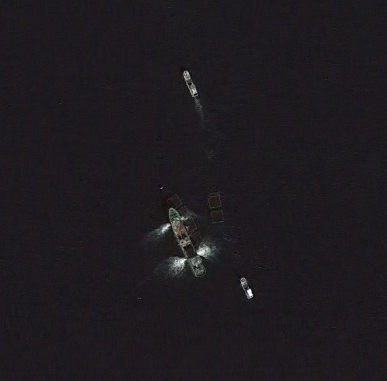ship: (167, 207, 205, 281), (179, 66, 203, 110), (240, 275, 254, 302)
